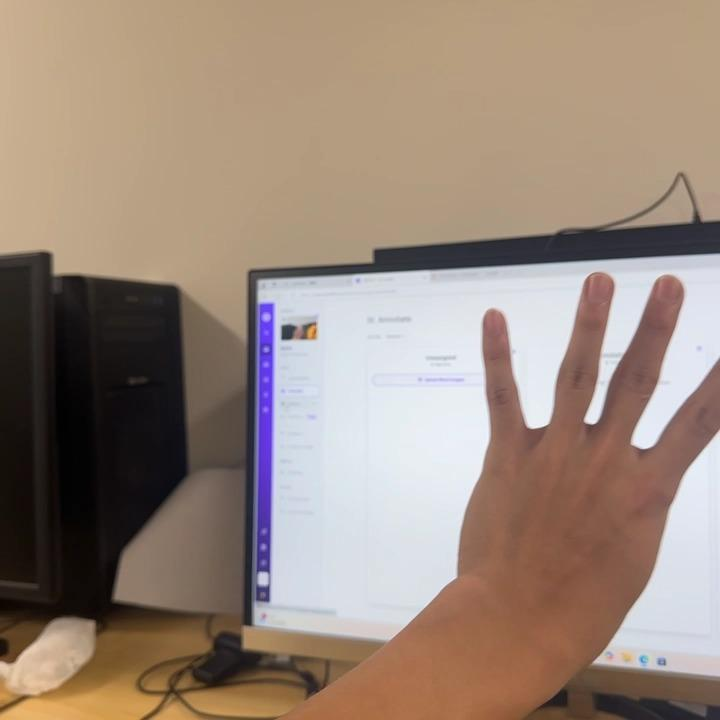without_gloves: (387, 213, 711, 669)
